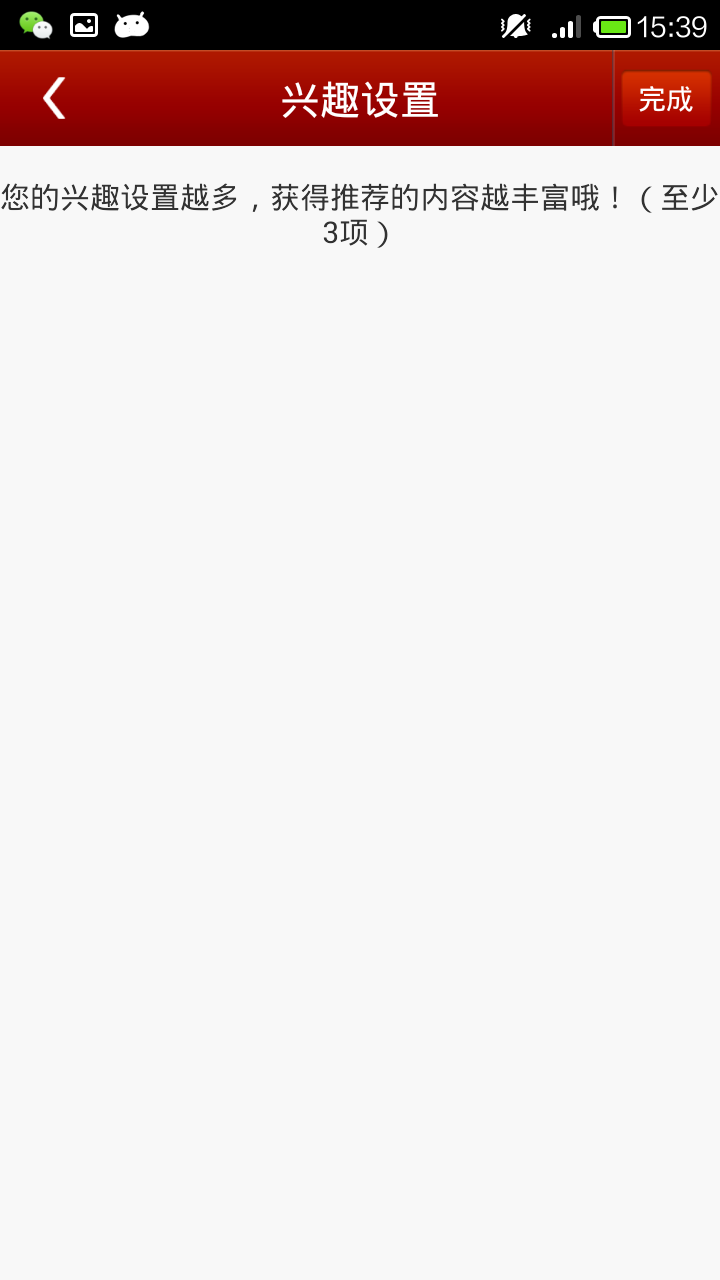button: (611, 59, 718, 141)
textview: (7, 166, 720, 288)
